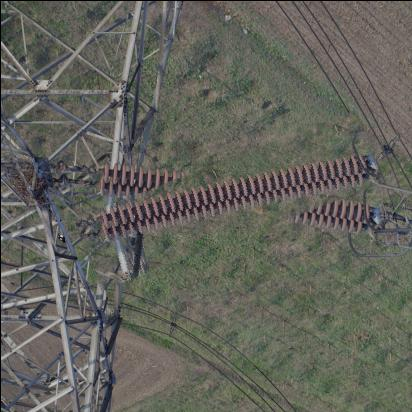insulator: (76, 135, 382, 265)
